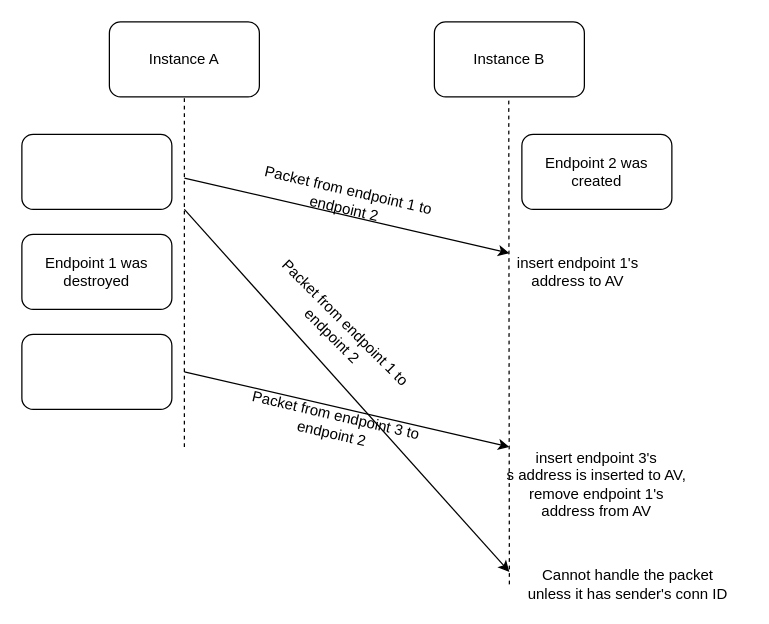
Image size: 769x624. Some labels were removed from this diagram. The shapes that lost their labels are listed below. From the top down, each one's centre as x and y in pixels, then its label:
At [96,171]: "Endpoint 1 was created".
At [96,371]: "Endpoint 3 was created".
